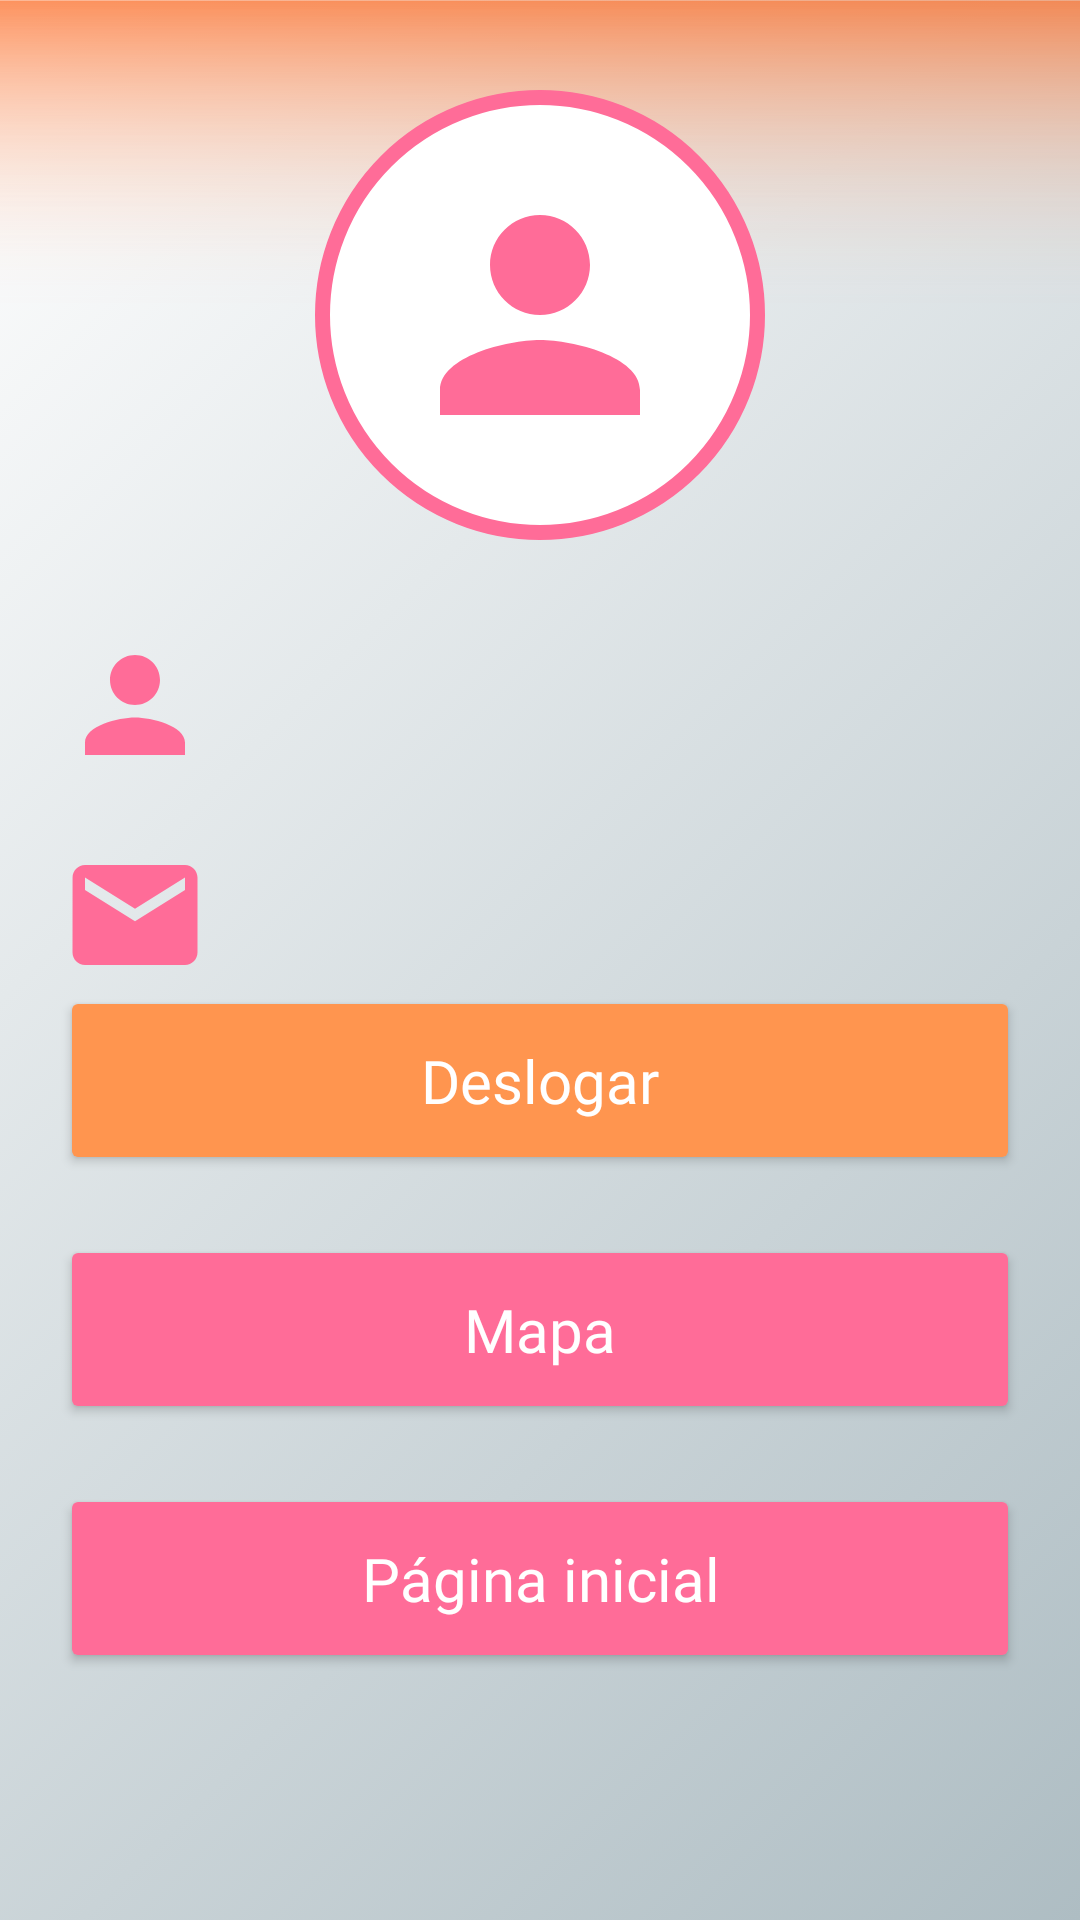

Locate icon controls on the screen. Image size 1080×1920, boxes as bbox(x1, y1, x2, y2).
email: bbox(72, 865, 198, 965)
